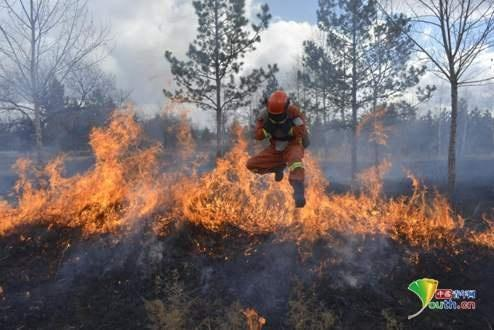fire: (8, 85, 487, 271)
